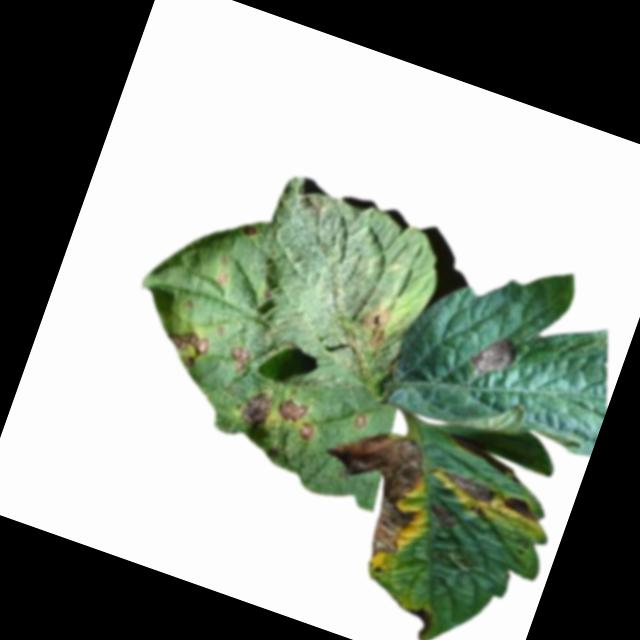Early_blight: (297, 414, 443, 570), (464, 331, 523, 389), (161, 323, 213, 374), (351, 297, 398, 352), (435, 469, 500, 508), (239, 388, 276, 431), (425, 500, 463, 534), (276, 394, 314, 427), (500, 492, 539, 522), (400, 606, 435, 639), (225, 342, 254, 376), (298, 421, 321, 444), (351, 412, 369, 432), (242, 221, 259, 241)
